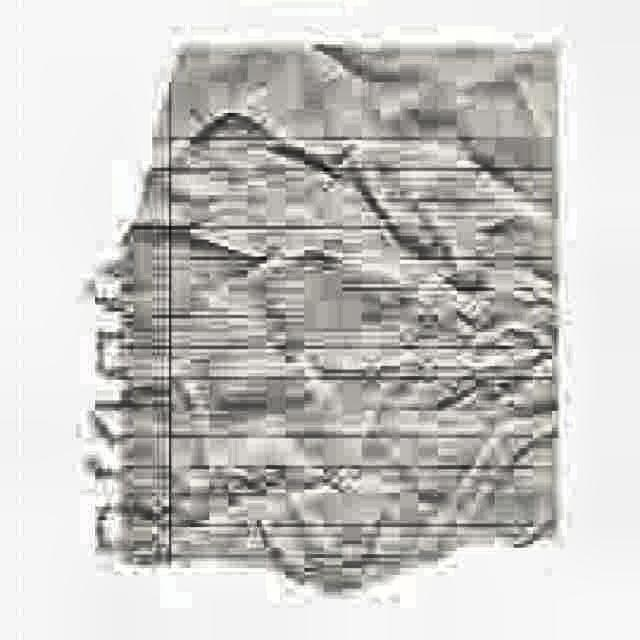Paper: (95, 41, 559, 575)
